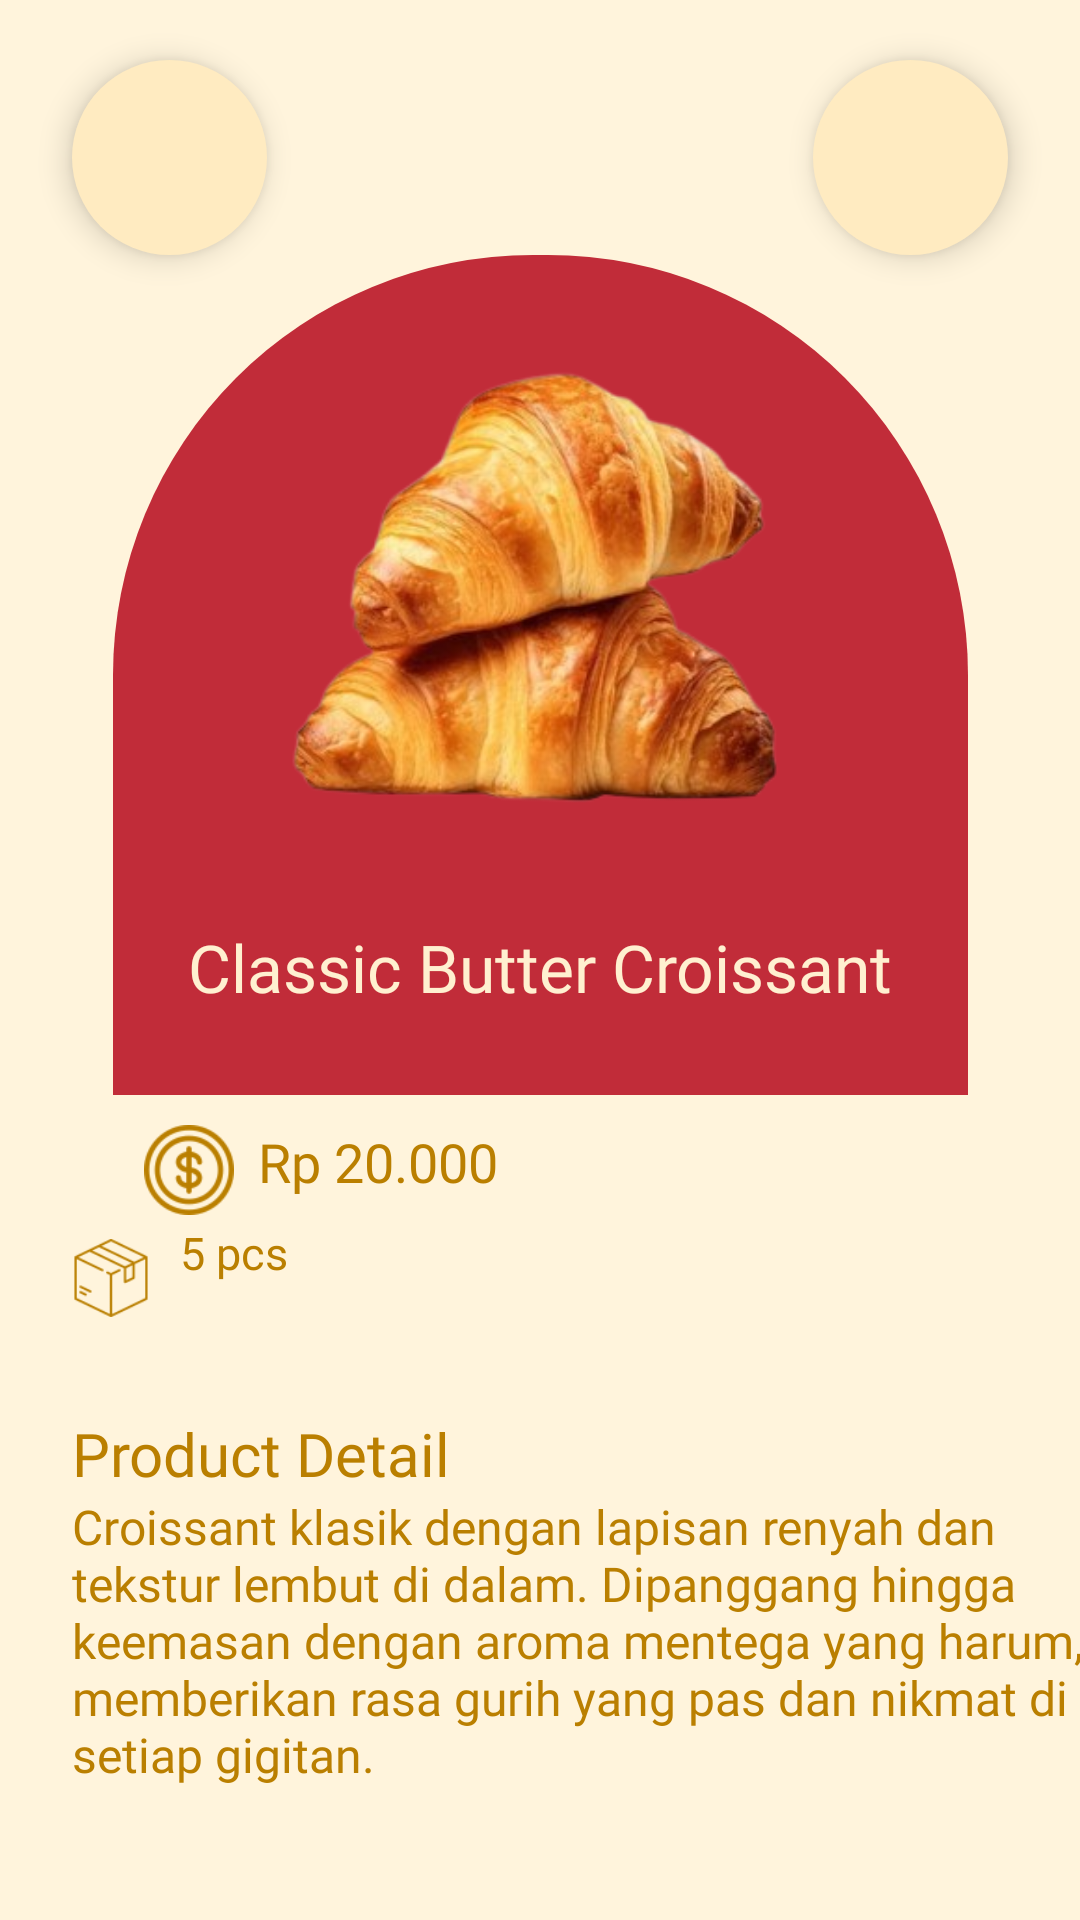

Icon click points for this 1080*1920 phone screenshot, format point (x, y):
box: point (111, 1278)
money: point (189, 1170)
